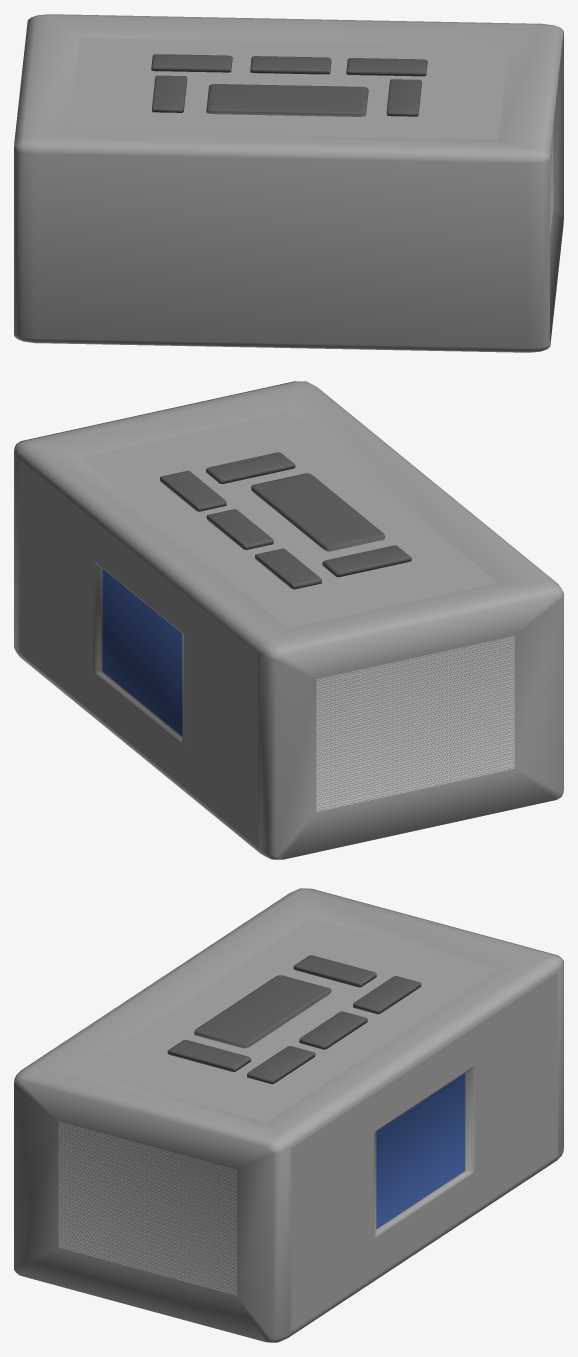
Rendered from buro.gltf.
3 renders of one model, top to bottom at view 1: azimuth 30°, elevation 25°; view 2: azimuth 150°, elevation 25°; view 3: azimuth 270°, elevation 25°, orthographic. The views are drawn at different scales.
Parts seen in each view (by area): view 1: DESPERTADOR_Cube.007; view 2: DESPERTADOR_Cube.007; view 3: DESPERTADOR_Cube.007.
Boxes of the visible parts, bbox=[...] form: DESPERTADOR_Cube.007: bbox=[14, 14, 563, 352]; DESPERTADOR_Cube.007: bbox=[14, 381, 563, 859]; DESPERTADOR_Cube.007: bbox=[14, 888, 563, 1342].
Bounding box in the file's own units: 0.1929 × 0.07 × 0.171.
Materials: 4 (1 with a texture image).
